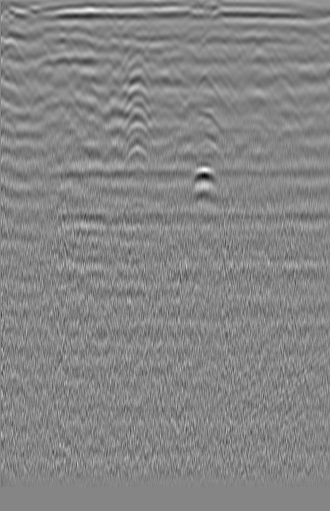가스: (184, 162, 221, 196)
상수: (299, 29, 329, 68)
오수: (0, 35, 27, 66)
우수: (124, 38, 154, 67)
